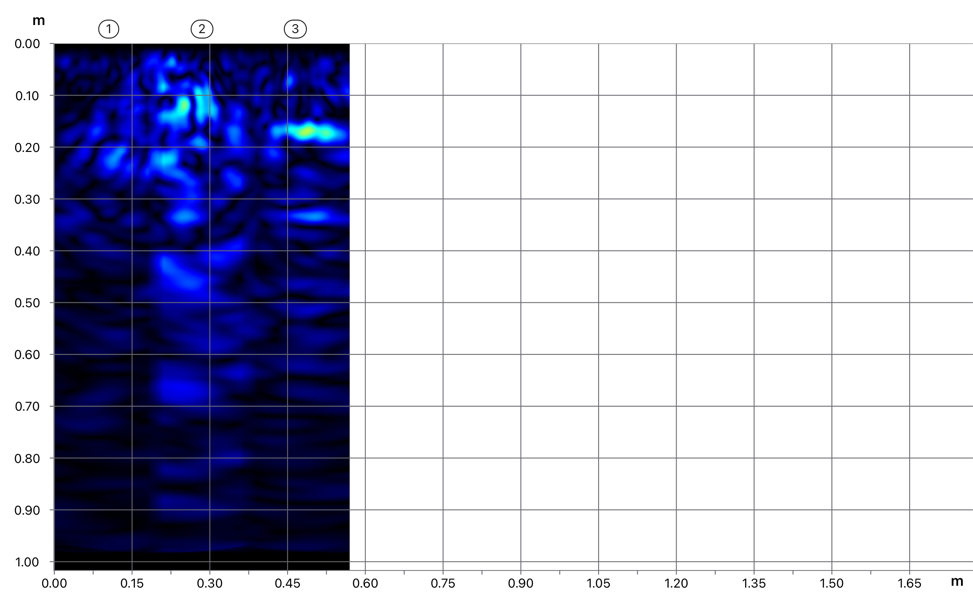crop: (0, 0, 351, 329)
